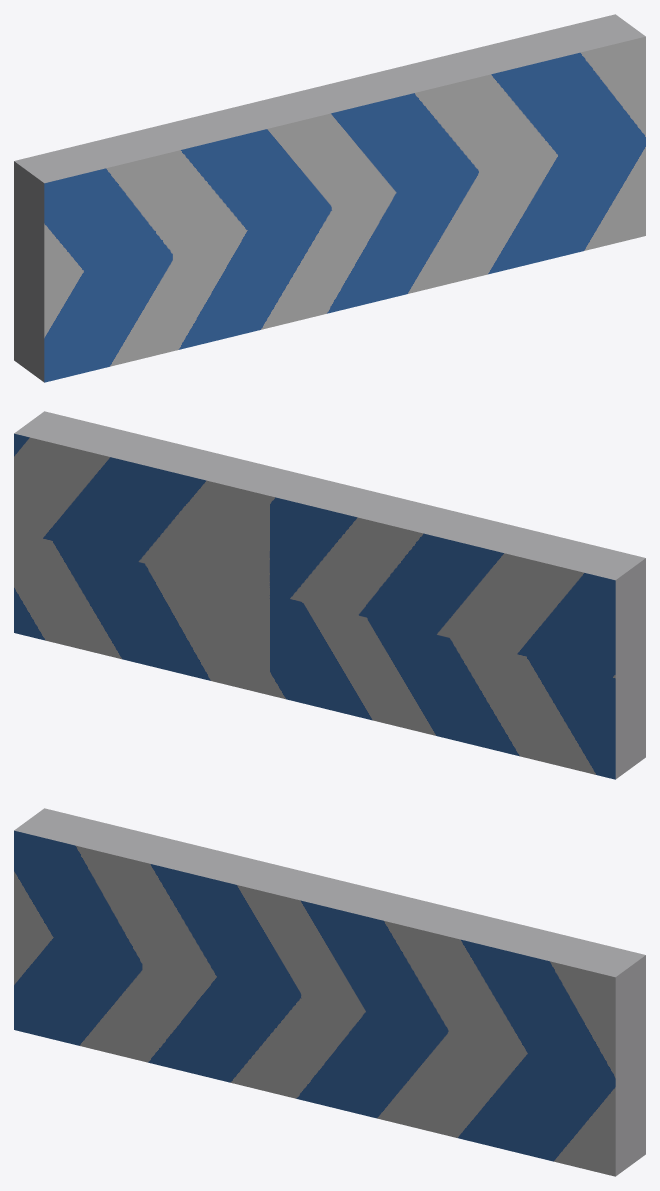
The model's file is Wall.fbx.
The picture shows the model from 3 angles, top to bottom: view 1: azimuth 30°, elevation 25°; view 2: azimuth 150°, elevation 25°; view 3: azimuth 330°, elevation 25°; orthographic projection.
Parts seen in each view (by area): view 1: Cube.002; view 2: Cube.002; view 3: Cube.002.
Part boxes in pixels (x1,y1,x2,y2): Cube.002: (14,14,645,382); Cube.002: (14,411,645,779); Cube.002: (14,808,645,1176).
Bounding box in the file's own units: 2280 × 722 × 200.
